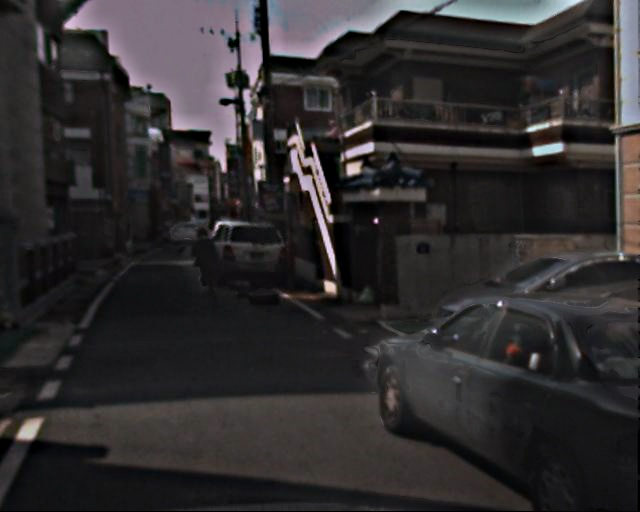person: (189, 228, 217, 296)
